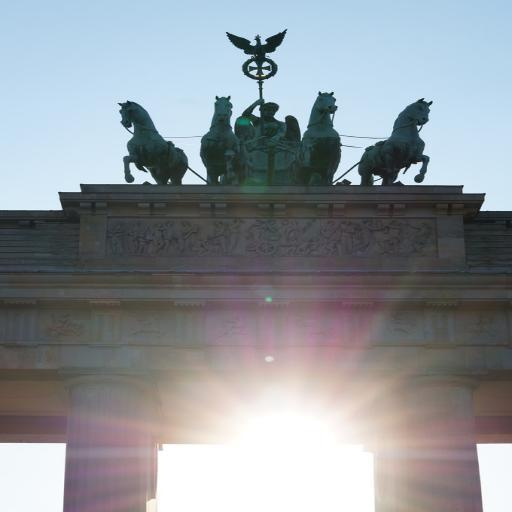horse: (360, 98, 434, 186), (116, 100, 188, 185), (298, 90, 345, 187), (196, 96, 244, 188)
